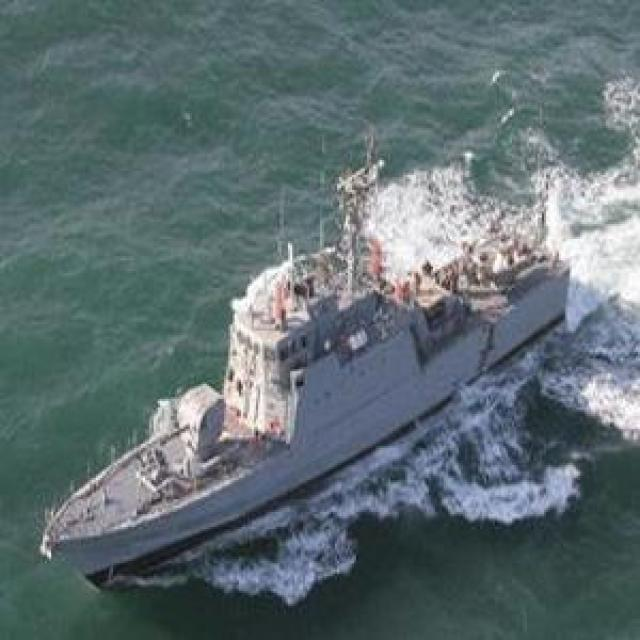navalvessels: (41, 134, 578, 589)
